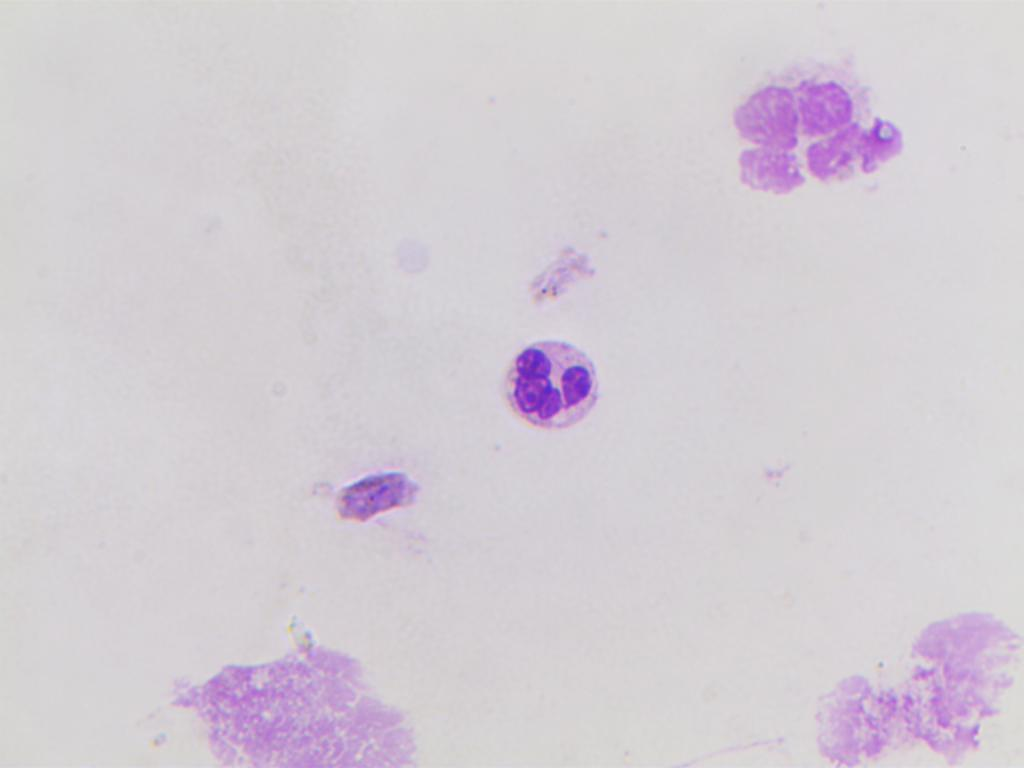artifact: (801, 583, 1021, 768), (156, 630, 425, 768), (301, 469, 430, 531)
neutrophil: (699, 56, 928, 202), (493, 332, 613, 439)
